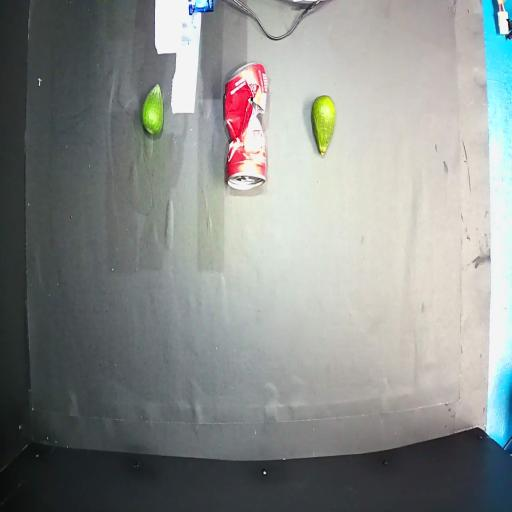higo: (225, 63, 268, 184), (311, 96, 335, 154), (142, 84, 163, 135)
lata_defectuoso: (224, 63, 267, 190)
